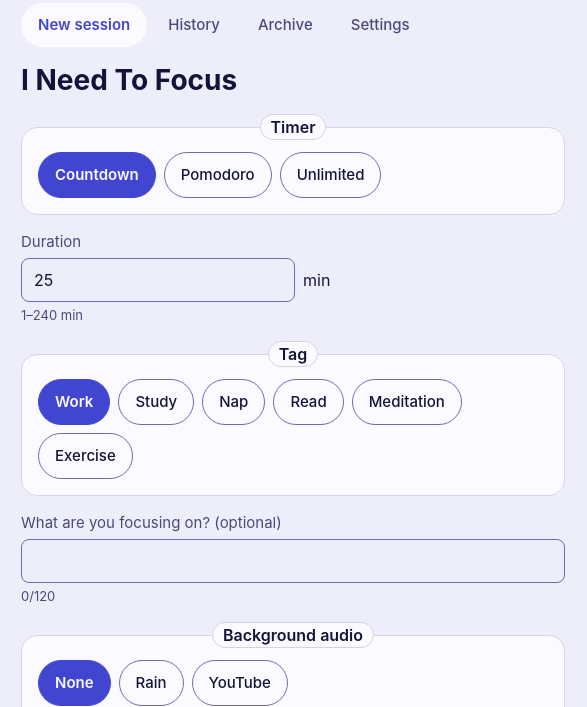
the Archive screen in the app › opens from the navigation, keeps sign out in reach, and goes back
Click the button "Archive": (285, 25) x1=241 y1=3 x2=330 y2=47
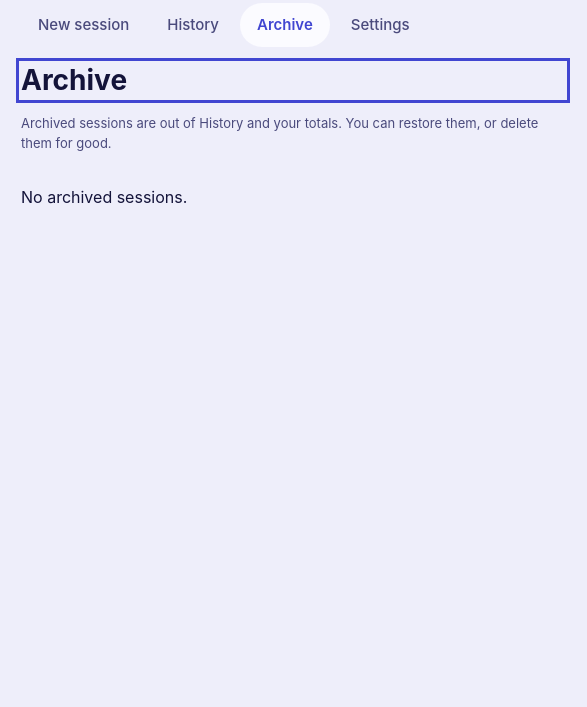
Expected: the navigation bar named "Screens" is shown, x1=21 y1=3 x2=427 y2=47
Expected: the heading "Archive" is shown, x1=21 y1=63 x2=127 y2=97
Expected: the text "No archived sessions." is shown, x1=21 y1=187 x2=187 y2=207
Click the button "New session": (84, 25) x1=21 y1=3 x2=146 y2=47
(page scrolled)
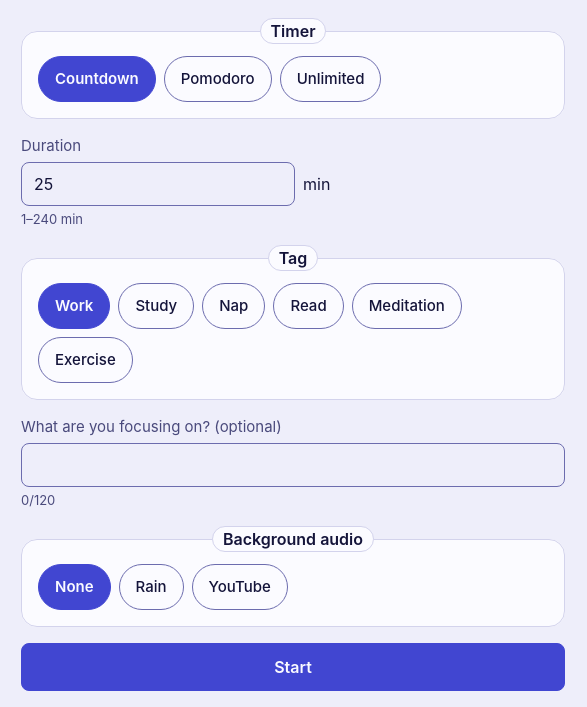
Expected: the button "Start" is shown, x1=21 y1=643 x2=565 y2=691
